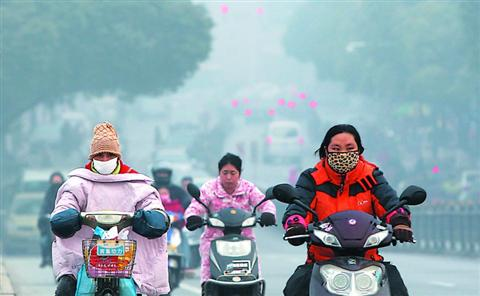NONE: (222, 169, 239, 186)
OK: (330, 138, 359, 173), (94, 150, 116, 175)
